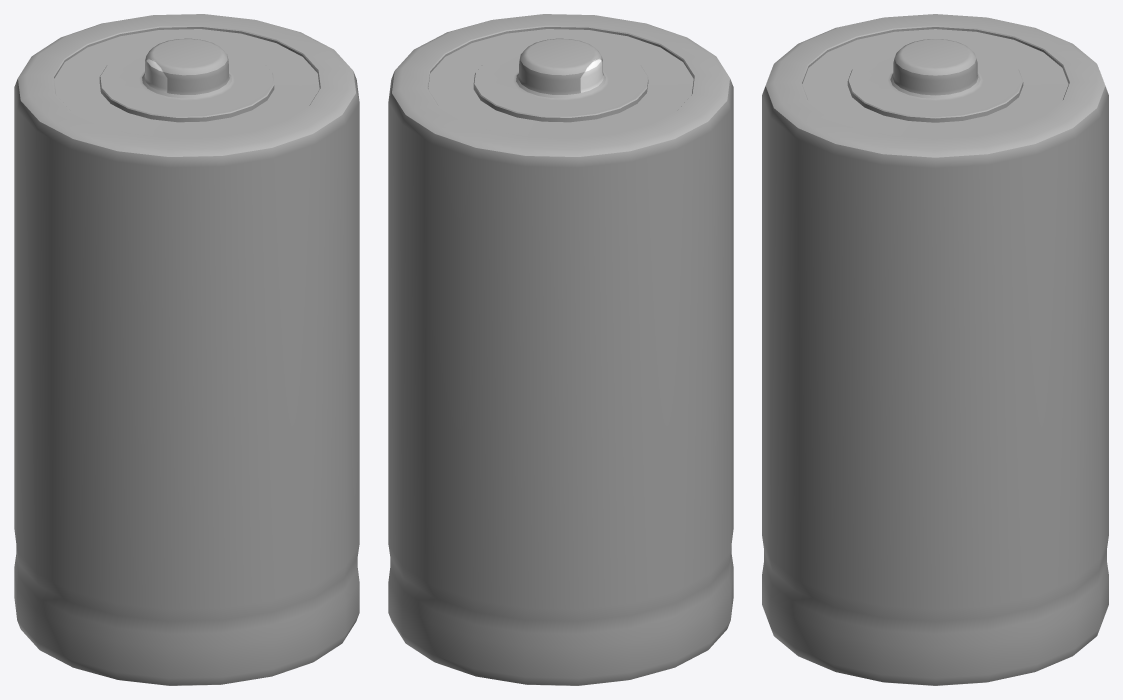
The model's file is denti.fbx.
3 renders of one model, left to right at view 1: azimuth 30°, elevation 25°; view 2: azimuth 150°, elevation 25°; view 3: azimuth 270°, elevation 25°, orthographic.
Parts seen in each view (by area): view 1: denti; view 2: denti; view 3: denti.
Boxes of the visible parts, x1,y1,x2,y2 form: denti: [14, 14, 359, 685]; denti: [388, 14, 733, 685]; denti: [762, 14, 1108, 685].
Bounding box in the file's own units: 24.12 × 43.61 × 24.12.
1 material, 1 textured.
